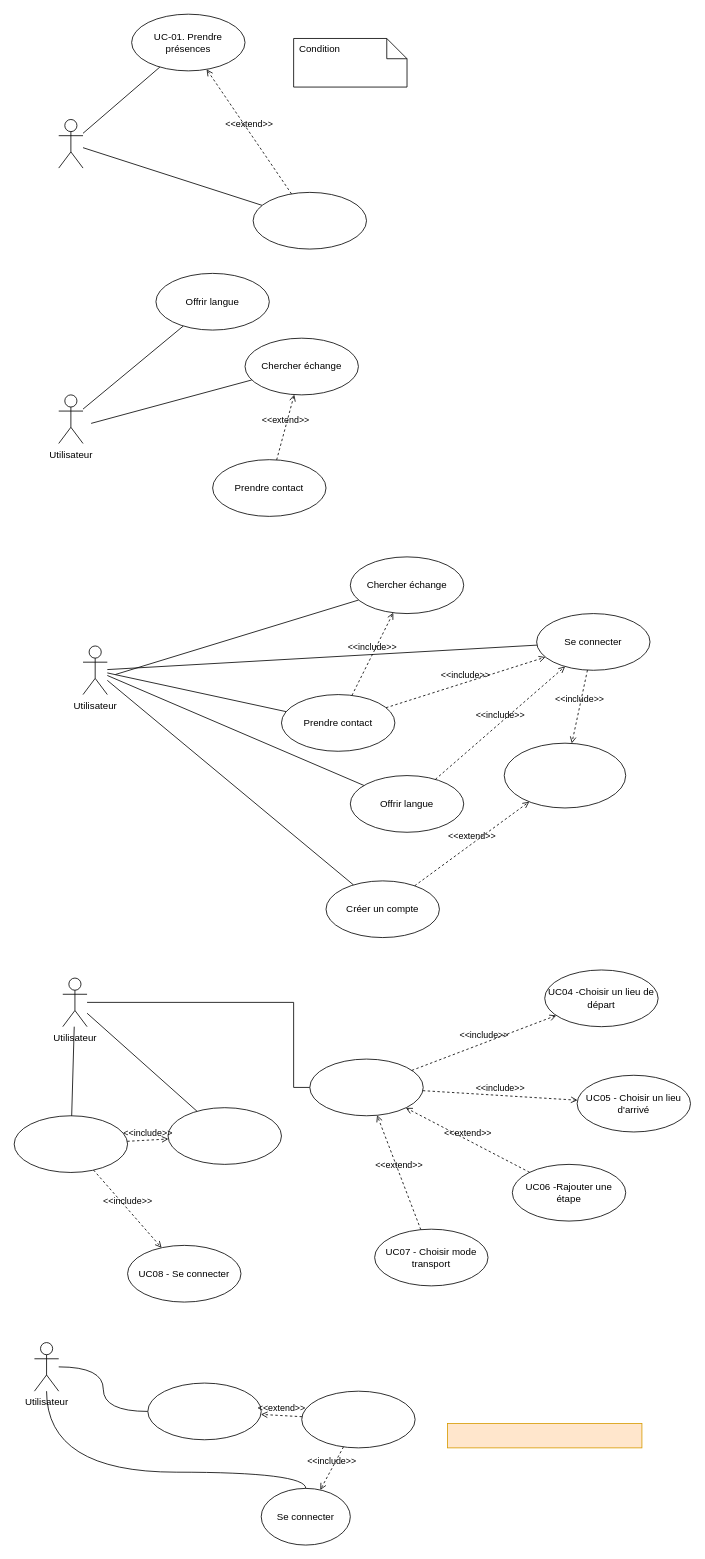
This 705x1559 diagram has some shape labels left out. The shapes that lost their labels are listed below. From the top down, each one's centre as x and y in pixels, then its label:
At [350,62]: "Le coach n'a pas reçu un message".
At [70,143]: "Coach".
At [309,220]: "UC-02. Envoyer message".
At [564,775]: "Vérifier existence compte".
At [366,1087]: "UC02 - Chercher un itinéraire".
At [70,1143]: "UC03 - Sauvegarder un lieu".
At [224,1135]: "UC01 - Chercher un lieu".
At [204,1411]: "Chercher un lieu".
At [358,1419]: "Sauvegarder un lieu".
At [544,1435]: "Avec extends tout peut devenir une option... ce n'est pas la meilleure solution".
